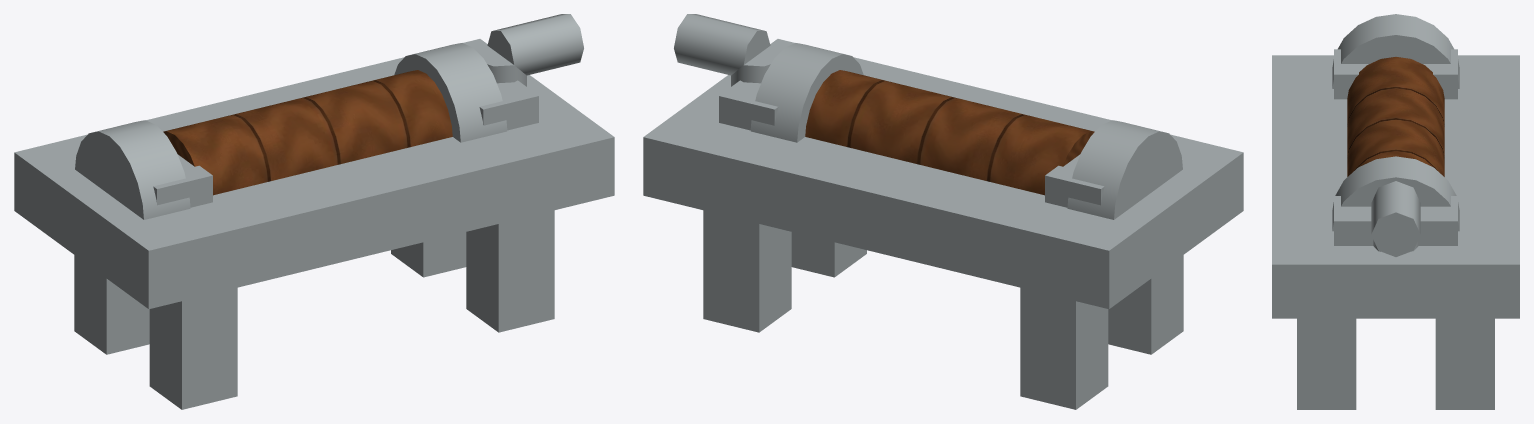
File: fortified-compound-expansion-gate-roller-carriage-5a80aa41__27123.glb
3 renders of one model, left to right at view 1: azimuth 30°, elevation 25°; view 2: azimuth 150°, elevation 25°; view 3: azimuth 270°, elevation 25°, orthographic. The views are drawn at different scales.
Parts seen in each view (by area): view 1: gate-roller-carriage; view 2: gate-roller-carriage; view 3: gate-roller-carriage.
Part boxes in pixels (left/top/right/bottom): gate-roller-carriage: left=14, top=14, right=614, bottom=409; gate-roller-carriage: left=643, top=14, right=1243, bottom=409; gate-roller-carriage: left=1272, top=14, right=1519, bottom=409.
Size of the model in its own units: 0.525 by 0.255 by 0.25.
2 materials, 1 textured.
